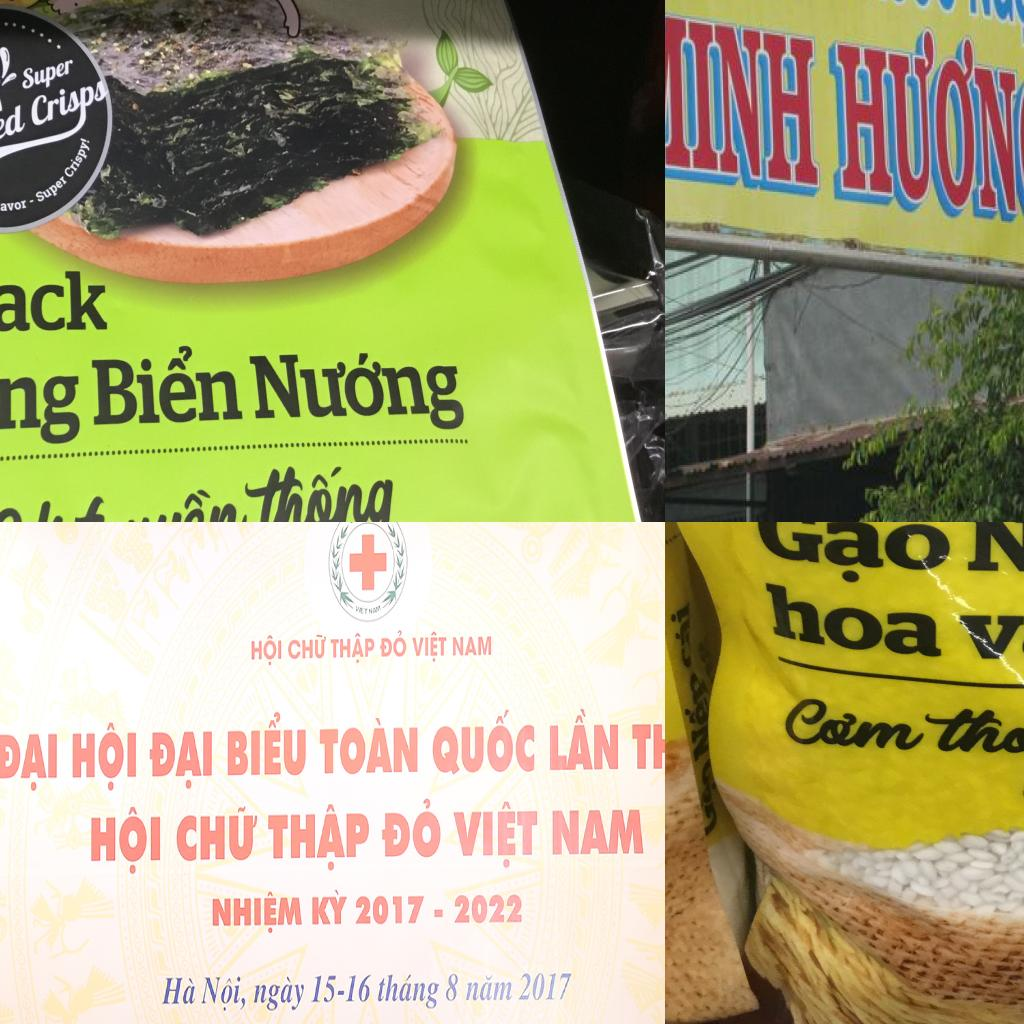text: (828, 14, 1024, 241), (665, 0, 821, 203), (244, 338, 468, 436), (757, 580, 942, 666), (85, 341, 244, 431), (750, 522, 954, 589), (245, 457, 402, 522), (778, 692, 920, 758), (74, 469, 247, 522), (0, 262, 111, 336), (428, 704, 536, 776), (0, 357, 78, 452), (266, 802, 371, 872), (316, 710, 420, 779), (447, 795, 540, 867), (949, 598, 1024, 682), (223, 709, 308, 780), (548, 800, 646, 858), (544, 702, 624, 771), (924, 700, 1024, 755), (88, 803, 164, 875), (68, 721, 141, 795), (176, 803, 260, 862), (28, 72, 111, 131), (961, 522, 1024, 599), (210, 888, 302, 937), (376, 795, 441, 859), (146, 728, 215, 786), (0, 726, 58, 794), (352, 885, 429, 932), (965, 0, 1024, 53), (252, 968, 309, 1019), (376, 968, 440, 1011), (627, 706, 665, 773), (452, 892, 528, 924), (515, 964, 573, 1005), (19, 55, 78, 95), (0, 490, 70, 522), (307, 883, 351, 931), (200, 972, 250, 1014), (466, 968, 517, 1009), (160, 968, 203, 1011), (0, 103, 25, 167), (410, 625, 448, 665), (331, 632, 376, 662), (286, 627, 329, 658), (450, 629, 495, 658), (35, 173, 71, 207), (248, 632, 283, 665), (308, 968, 339, 1005), (344, 967, 374, 1004), (61, 135, 94, 168), (378, 627, 410, 659), (444, 967, 463, 1008), (0, 196, 28, 212), (353, 602, 370, 618), (368, 599, 383, 616), (374, 522, 389, 527)
